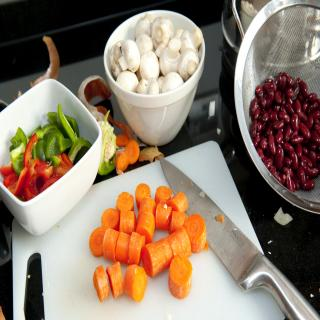Carrot: (90, 182, 207, 299), (116, 192, 135, 211)
